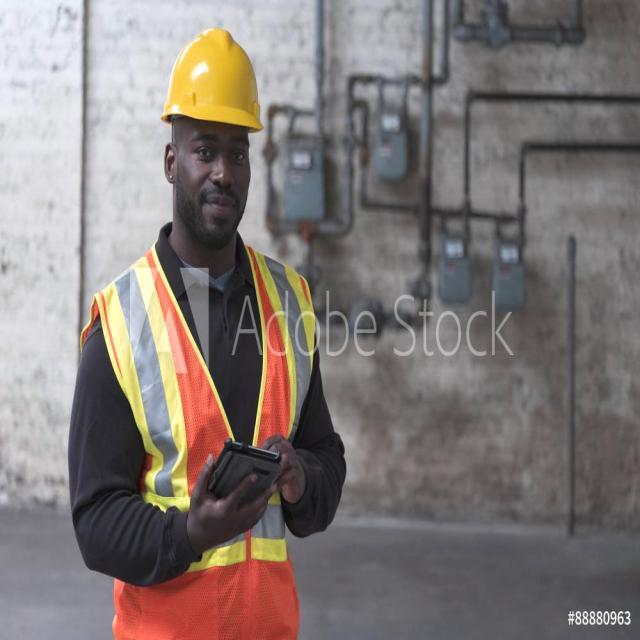face_nomask: (174, 108, 255, 233)
hand_noglove: (193, 448, 271, 549), (266, 418, 316, 506)
head_helmet: (158, 22, 266, 127)
person: (73, 19, 319, 632)
vest: (106, 259, 306, 640)
